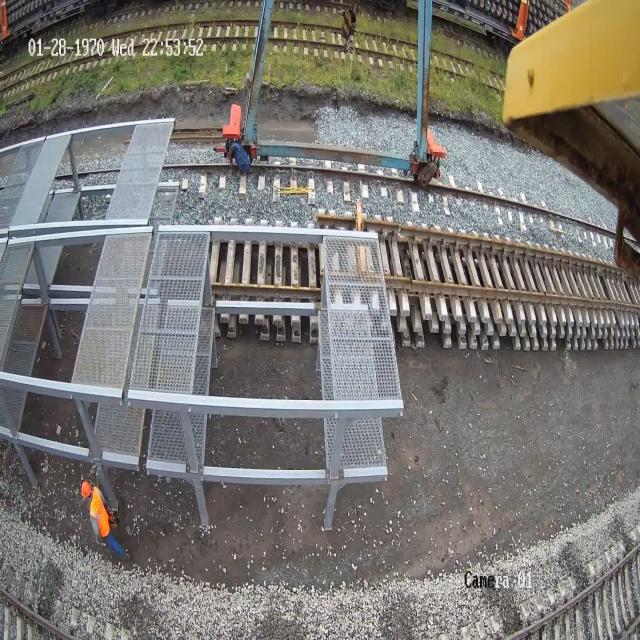Helmet: (81, 481, 91, 498)
Person: (81, 480, 128, 561)
